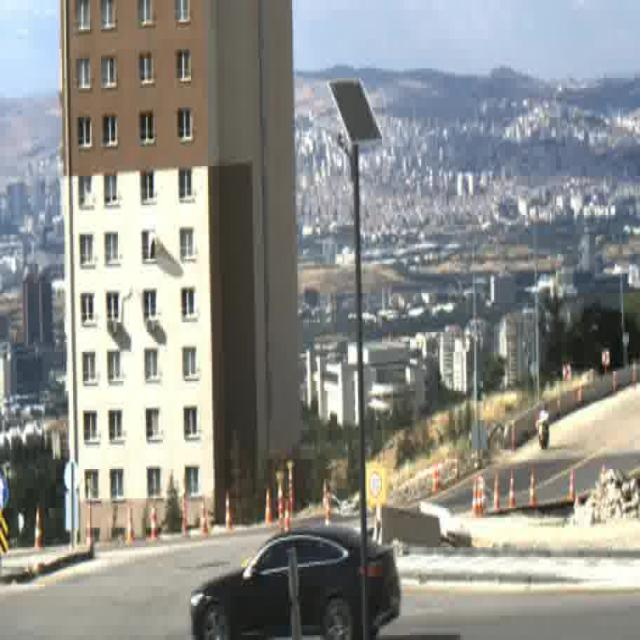Car: (189, 522, 394, 640)
Motorcycle: (535, 405, 555, 450)
